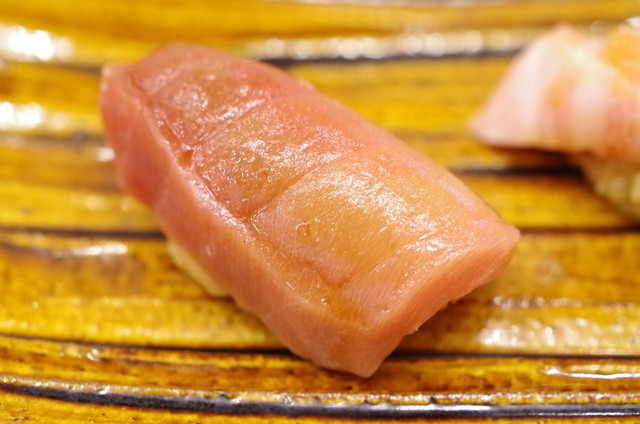medium_fatty_tuna: (100, 39, 524, 384)
